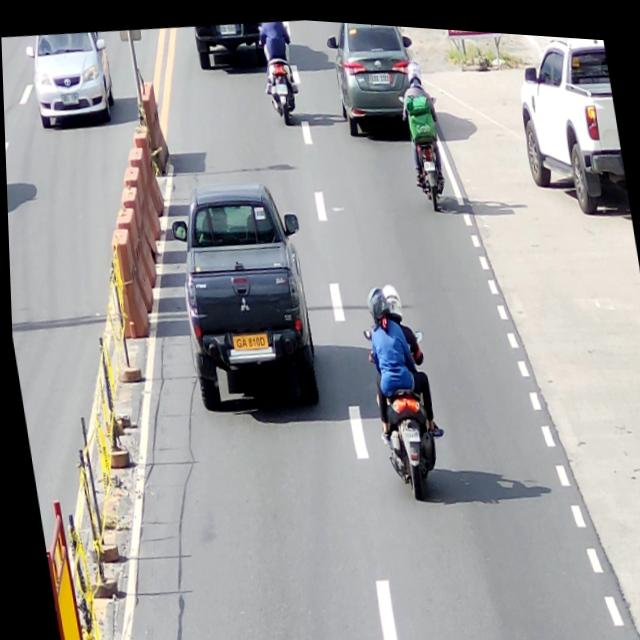Car: (163, 168, 324, 415), (507, 27, 629, 214), (323, 17, 425, 136), (23, 26, 118, 131)
License-Plate: (227, 324, 268, 349), (56, 85, 83, 109), (368, 61, 392, 85), (271, 74, 289, 95), (419, 149, 437, 168), (219, 19, 236, 34)
Motorcycle: (359, 316, 445, 500), (397, 84, 451, 209), (256, 34, 302, 124)
